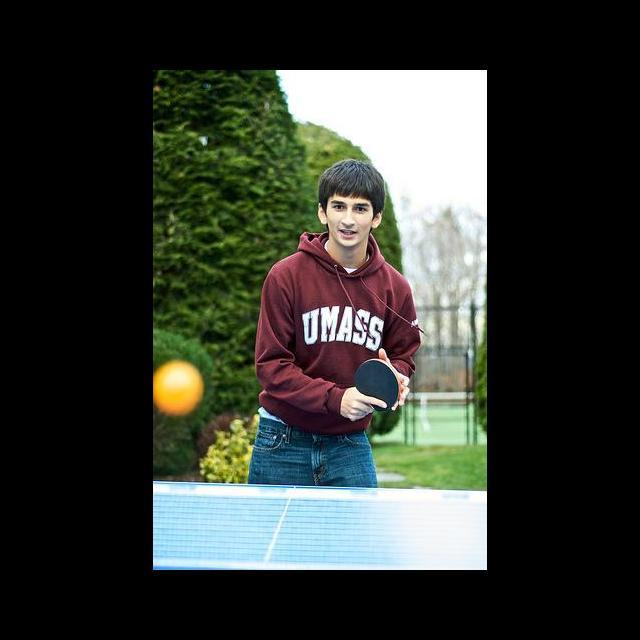ping-pong-ball: (153, 359, 207, 417)
